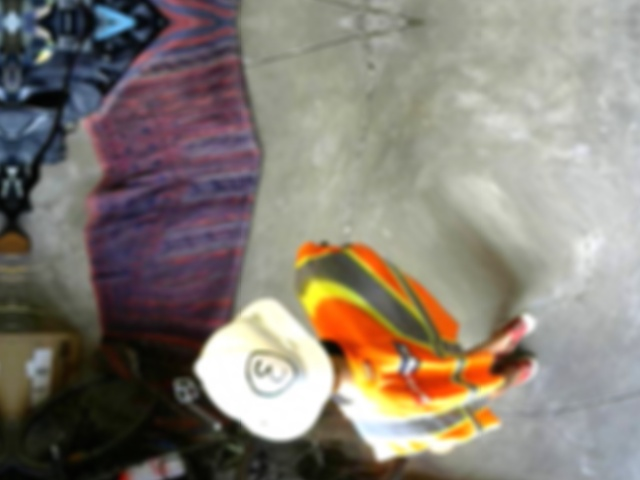three: (244, 346, 297, 396)
